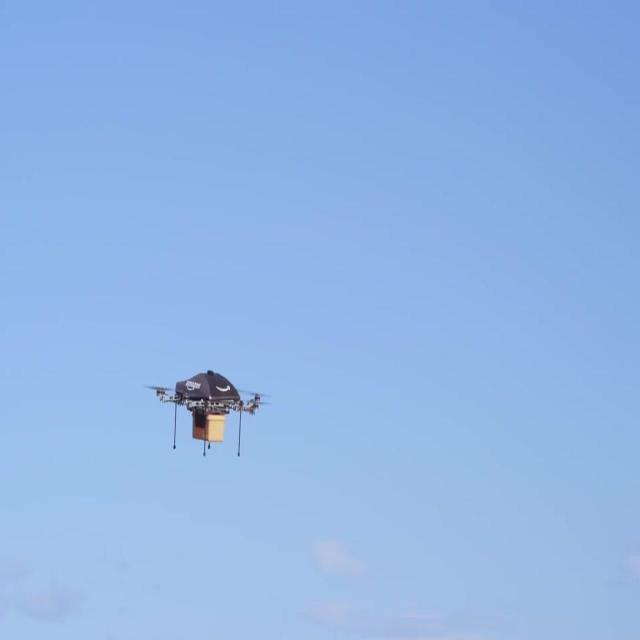UAV: (145, 370, 272, 458)
